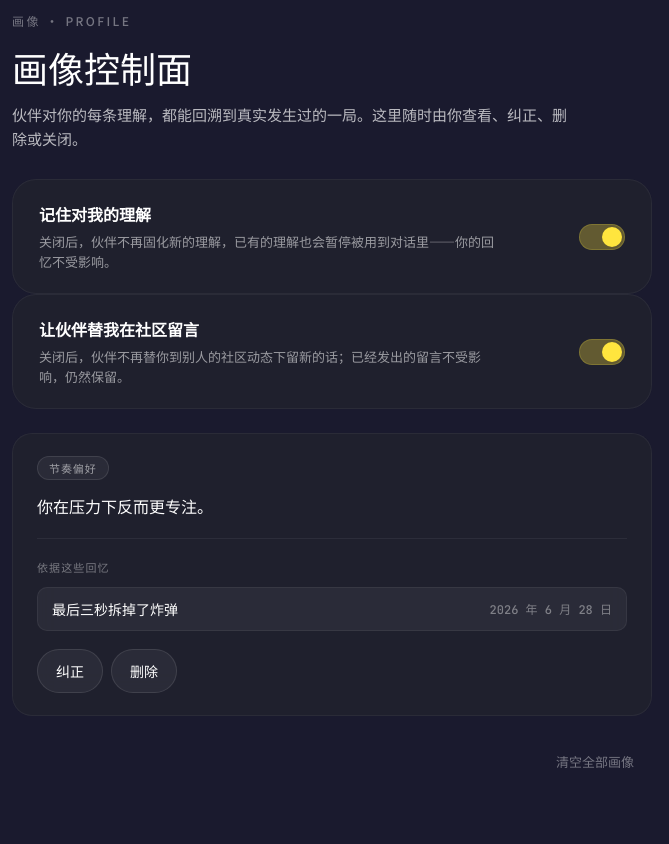
it: ProfileControlPage /me/profile › flips the profile switch
Click the switch named "画像开关".
click(602, 236)  # box [579, 214, 625, 258]
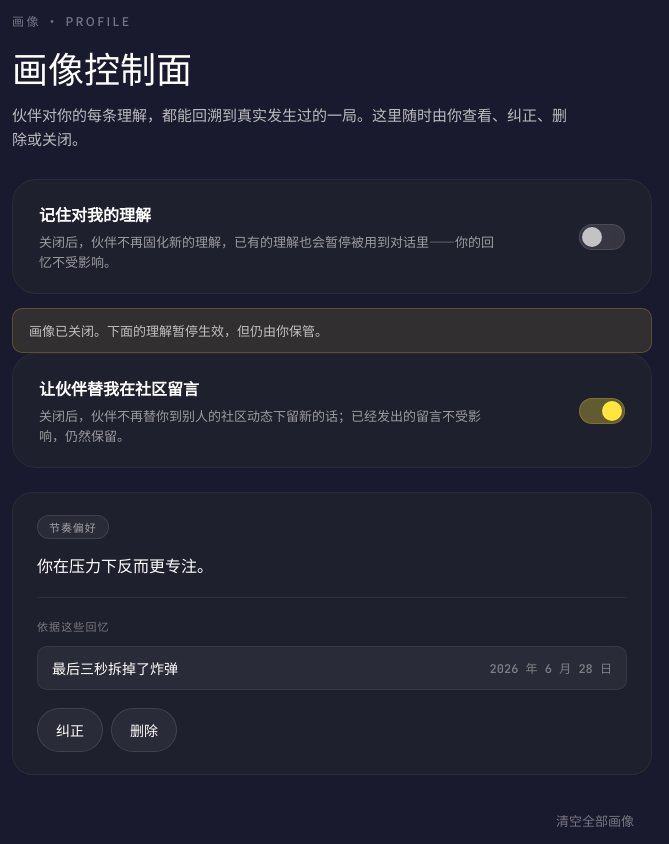
Result: the text "画像已关闭。下面的理解暂停生效，但仍由你保管。" is shown at [12, 308, 652, 353]
